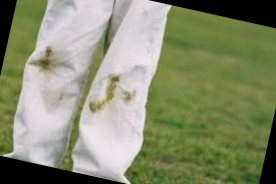earth: (36, 44, 58, 73), (103, 75, 118, 102), (89, 101, 103, 115), (118, 90, 133, 103)
